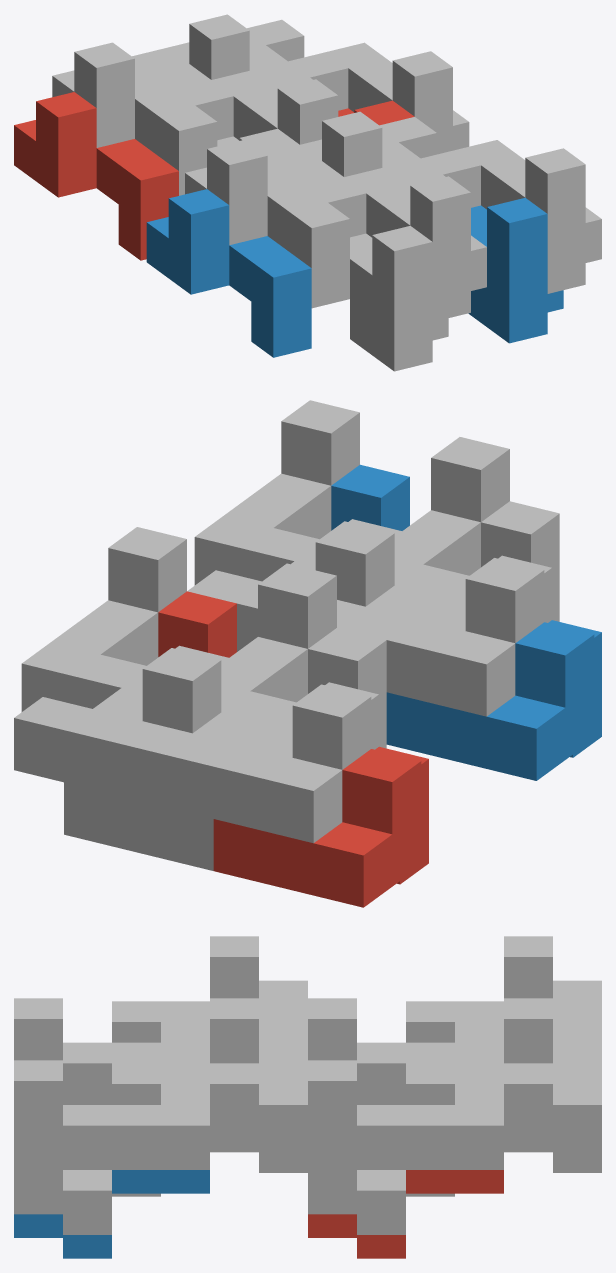
The model's file is tiling.obj.
The picture shows the model from 3 angles, top to bottom: view 1: azimuth 30°, elevation 25°; view 2: azimuth 150°, elevation 25°; view 3: azimuth 270°, elevation 25°; orthographic projection. The views are drawn at different scales.
Parts seen in each view (by area): view 1: copy_1_domain_2, copy_1_domain_4, copy_1_domain_1, copy_1_domain_3, copy_2_domain_4, copy_2_domain_8, copy_2_domain_2, copy_2_domain_6, copy_2_domain_7, copy_2_domain_3, copy_1_domain_7, copy_1_domain_8 (+4 smaller); view 2: copy_1_domain_3, copy_1_domain_7, copy_1_domain_2, copy_1_domain_1, copy_1_domain_4, copy_2_domain_7, copy_2_domain_8, copy_2_domain_3, copy_2_domain_4, copy_1_domain_5, copy_1_domain_8, copy_2_domain_1 (+4 smaller); view 3: copy_2_domain_7, copy_2_domain_8, copy_1_domain_7, copy_1_domain_8, copy_2_domain_3, copy_2_domain_4, copy_1_domain_3, copy_1_domain_4, copy_2_domain_5, copy_2_domain_6, copy_1_domain_5, copy_1_domain_6.
Part boxes in pixels (bbox=[...]): copy_1_domain_2: bbox=[146, 189, 311, 357]; copy_1_domain_4: bbox=[185, 139, 349, 308]; copy_1_domain_1: bbox=[14, 92, 178, 260]; copy_1_domain_3: bbox=[52, 42, 217, 195]; copy_2_domain_4: bbox=[306, 168, 486, 321]; copy_2_domain_8: bbox=[421, 140, 601, 293]; copy_2_domain_2: bbox=[350, 226, 448, 371]; copy_2_domain_6: bbox=[468, 197, 563, 343]; copy_2_domain_7: bbox=[288, 42, 469, 154]; copy_2_domain_3: bbox=[173, 70, 338, 144]; copy_1_domain_7: bbox=[167, 14, 312, 90]; copy_1_domain_8: bbox=[300, 111, 445, 187]; copy_1_domain_3: bbox=[163, 682, 378, 843]; copy_1_domain_7: bbox=[14, 645, 228, 806]; copy_1_domain_2: bbox=[386, 620, 601, 780]; copy_1_domain_1: bbox=[213, 746, 428, 907]; copy_1_domain_4: bbox=[337, 555, 551, 716]; copy_2_domain_7: bbox=[21, 527, 186, 711]; copy_2_domain_8: bbox=[194, 400, 359, 585]; copy_2_domain_3: bbox=[221, 563, 336, 724]; copy_2_domain_4: bbox=[394, 437, 509, 597]; copy_1_domain_5: bbox=[64, 712, 270, 870]; copy_1_domain_8: bbox=[187, 519, 401, 651]; copy_2_domain_1: bbox=[308, 628, 386, 748]; copy_2_domain_7: bbox=[308, 1060, 503, 1234]; copy_2_domain_8: bbox=[14, 1060, 209, 1234]; copy_1_domain_7: bbox=[406, 998, 601, 1149]; copy_1_domain_8: bbox=[112, 998, 307, 1149]; copy_2_domain_3: bbox=[308, 998, 503, 1104]; copy_2_domain_4: bbox=[14, 998, 209, 1104]; copy_1_domain_3: bbox=[406, 936, 601, 1042]; copy_1_domain_4: bbox=[112, 936, 307, 1042]; copy_2_domain_5: bbox=[308, 1170, 503, 1258]; copy_2_domain_6: bbox=[14, 1170, 209, 1258]; copy_1_domain_5: bbox=[406, 1128, 601, 1196]; copy_1_domain_6: bbox=[112, 1128, 307, 1196].
Size of the model in its own units: 9 by 4 by 12.
